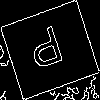P: (25, 25, 69, 79)
